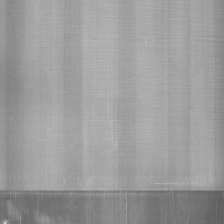welding_line: (1, 183, 223, 204)
